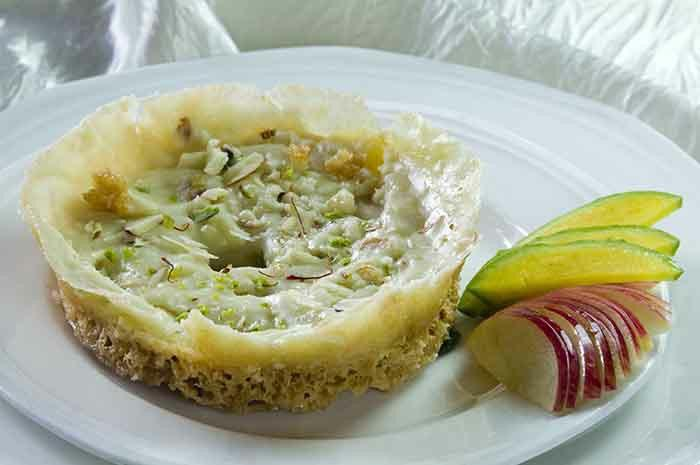Ghevar: (19, 80, 486, 413)
